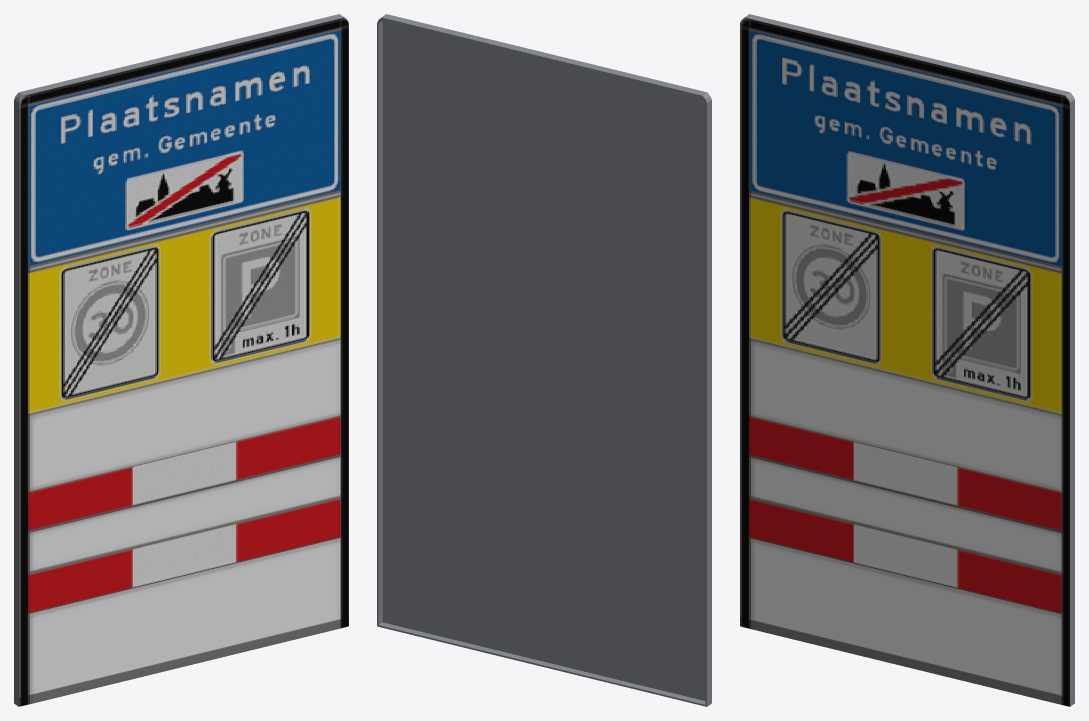
3 views of the same model, side by side, from view 1: azimuth 30°, elevation 25°; view 2: azimuth 150°, elevation 25°; view 3: azimuth 330°, elevation 25° (orthographic).
Visible parts, largest first — view 1: cat_7da3538e1c4732fb; view 2: cat_7da3538e1c4732fb; view 3: cat_7da3538e1c4732fb.
Part boxes in pixels (box(x1,y1,x2,y2)): cat_7da3538e1c4732fb: box(14, 14, 348, 706); cat_7da3538e1c4732fb: box(377, 14, 711, 706); cat_7da3538e1c4732fb: box(740, 14, 1074, 706).
Size of the model in its own units: 0.6 by 0.015 by 1.06.
2 materials, 1 textured.
